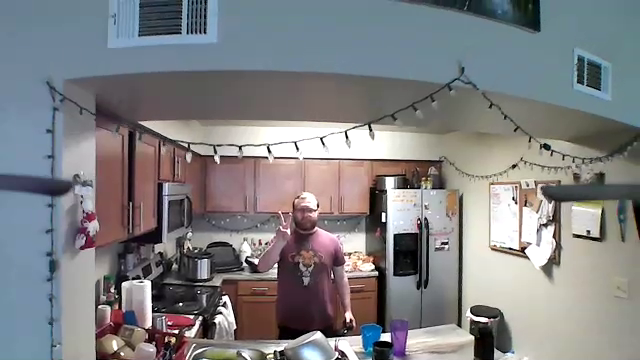peace: (272, 207, 295, 246)
